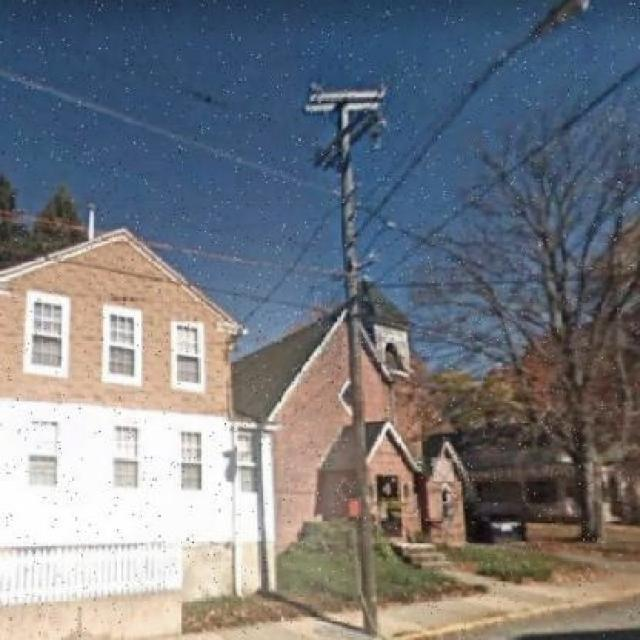crossarm: (302, 82, 388, 137)
pole: (340, 105, 377, 635)
wire: (356, 64, 640, 303), (0, 69, 344, 203), (0, 211, 346, 279), (241, 205, 343, 326)
